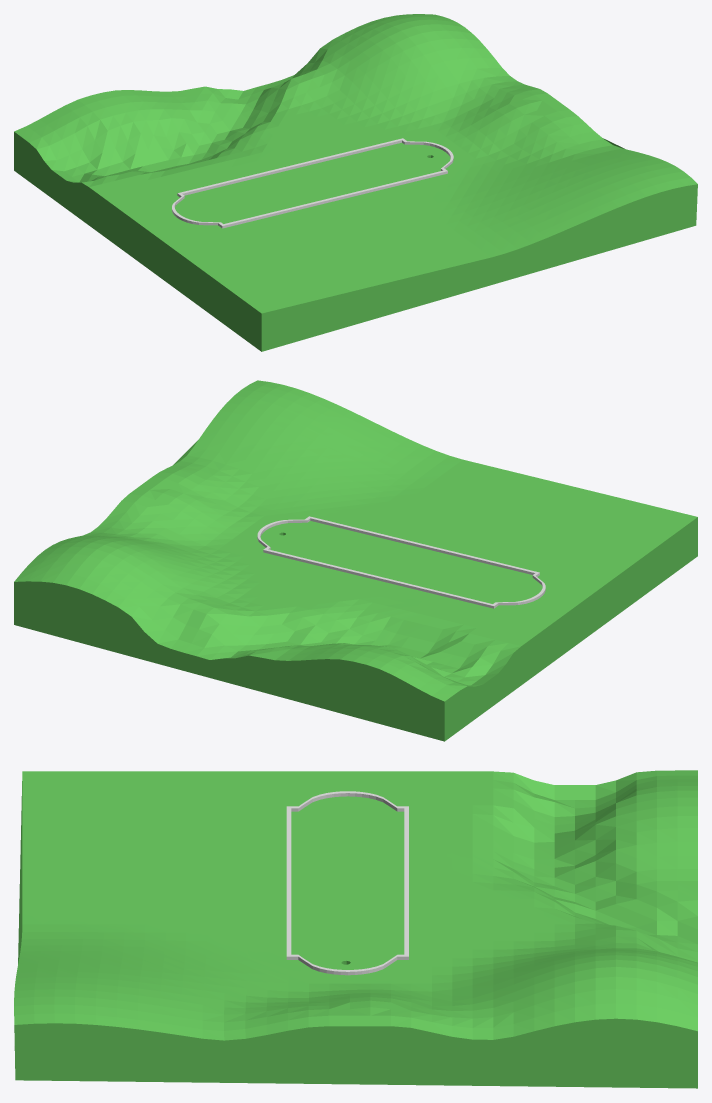
Rendered from hoyo base.fbx.
3 renders of one model, top to bottom at view 1: azimuth 30°, elevation 25°; view 2: azimuth 150°, elevation 25°; view 3: azimuth 270°, elevation 25°, orthographic. The views are drawn at different scales.
Visible parts, largest first — view 1: Cube.001, Cube.004; view 2: Cube.001, Cube.004; view 3: Cube.001, Cube.004.
Part boxes in pixels (x1=…): Cube.001: x1=14, y1=14, x2=697, y2=351; Cube.004: x1=172, y1=138, x2=453, y2=228; Cube.001: x1=14, y1=380, x2=697, y2=741; Cube.004: x1=257, y1=516, x2=545, y2=608; Cube.001: x1=14, y1=770, x2=697, y2=1088; Cube.004: x1=286, y1=791, x2=408, y2=975.
Size of the model in its own units: 1200 by 200 by 1200.
